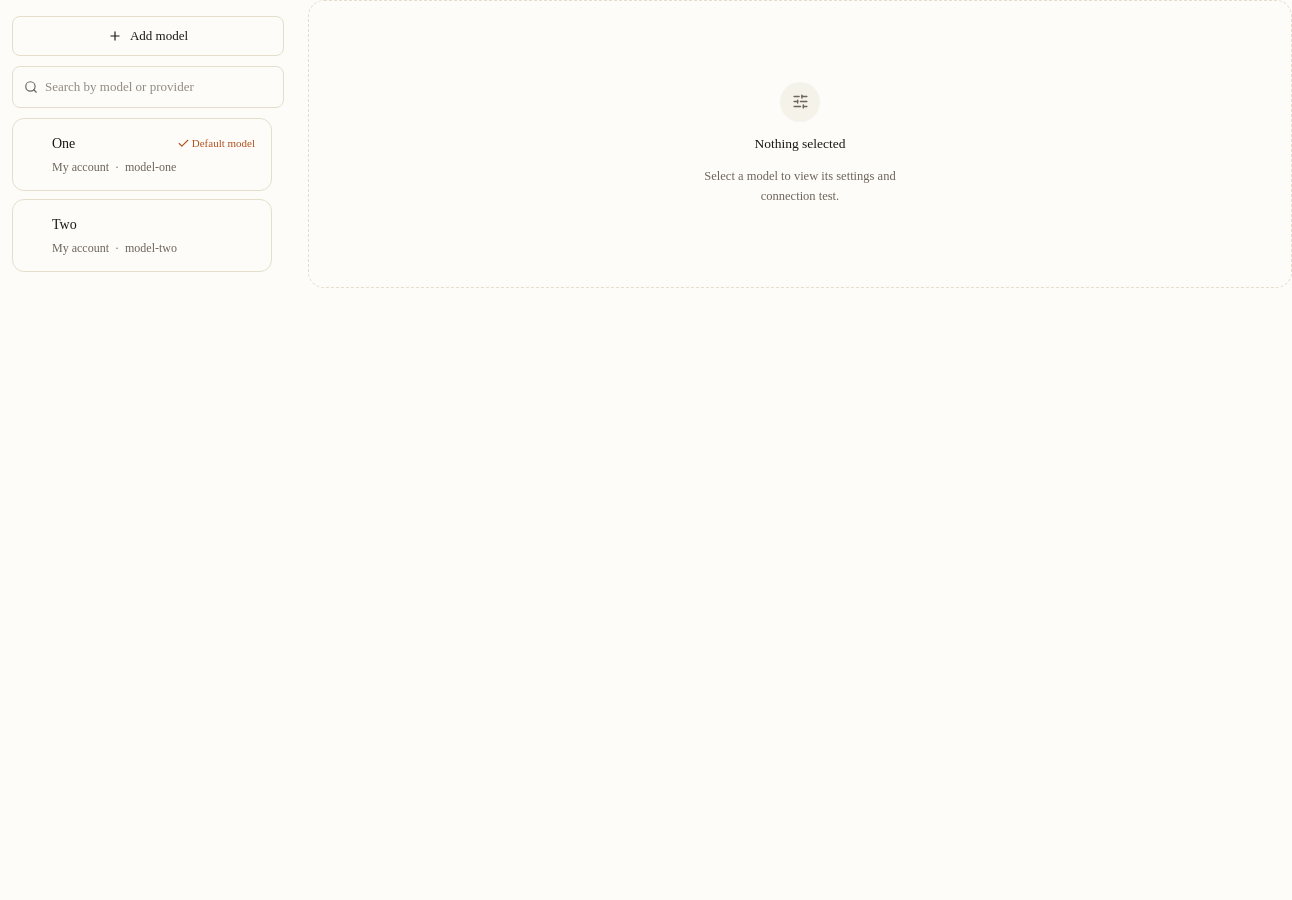
Test: requires a model ID before creating the row and names it after that ID
The width and height of the screenshot is (1292, 900).
Click the button "Add model" at (148, 36), box [12, 16, 284, 56]
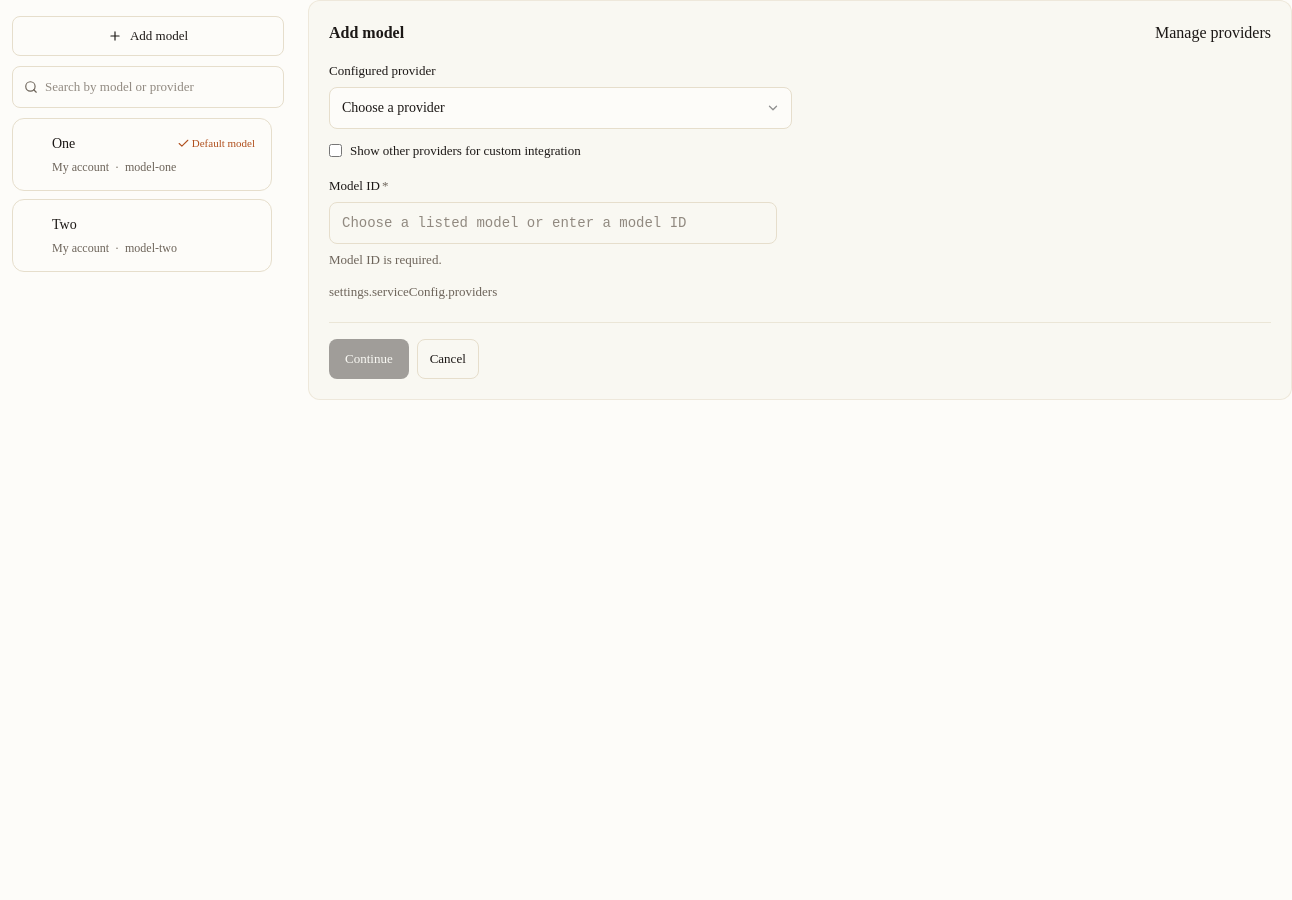
Select "My account" in the dropdown labelled "Configured provider" at (560, 108), box [329, 86, 792, 128]
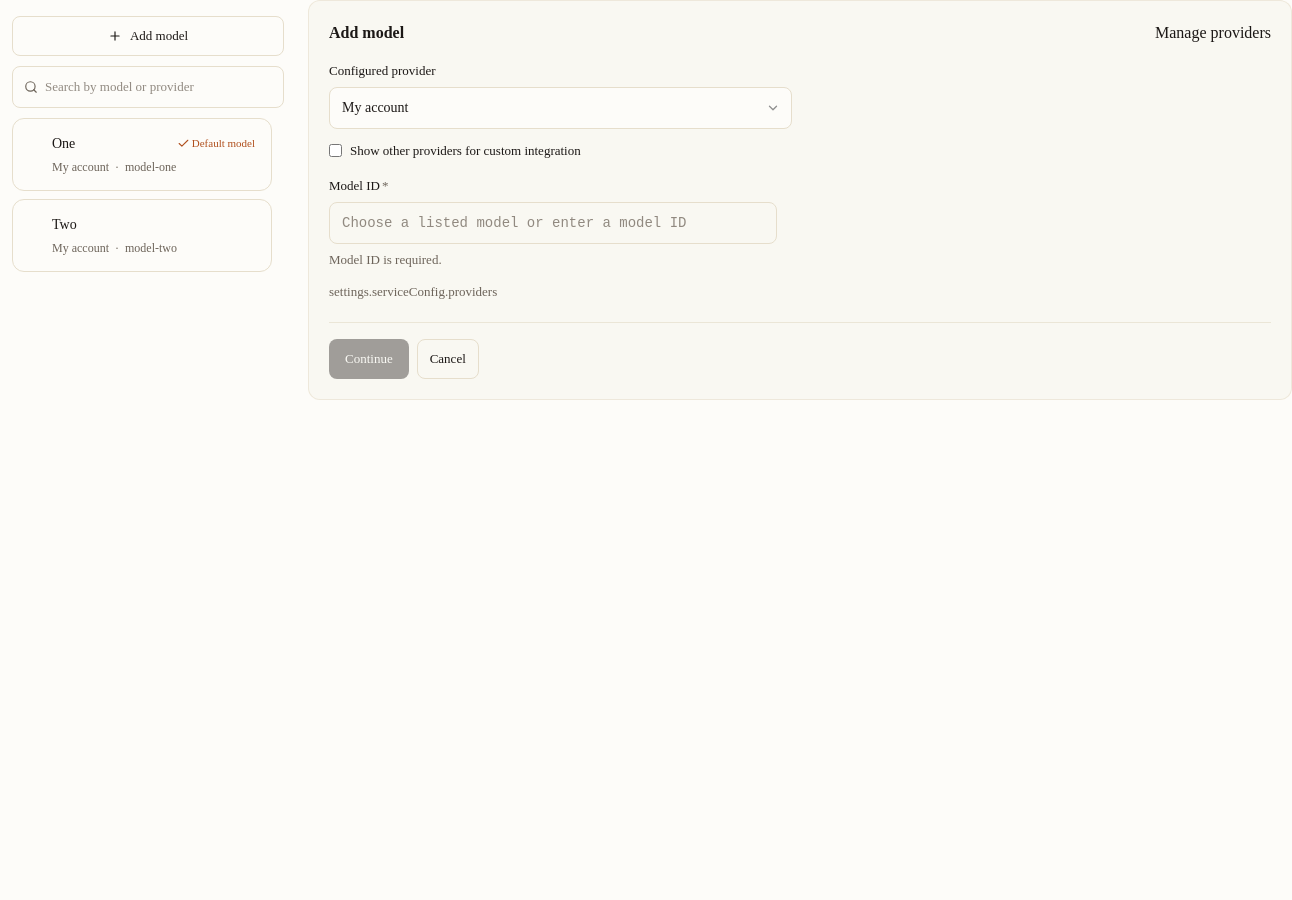
Expected: the button "Continue" is disabled, [329, 339, 409, 379]
Type "custom/model-id" into the dropdown labelled "Model ID" at (553, 222), box [329, 202, 777, 244]
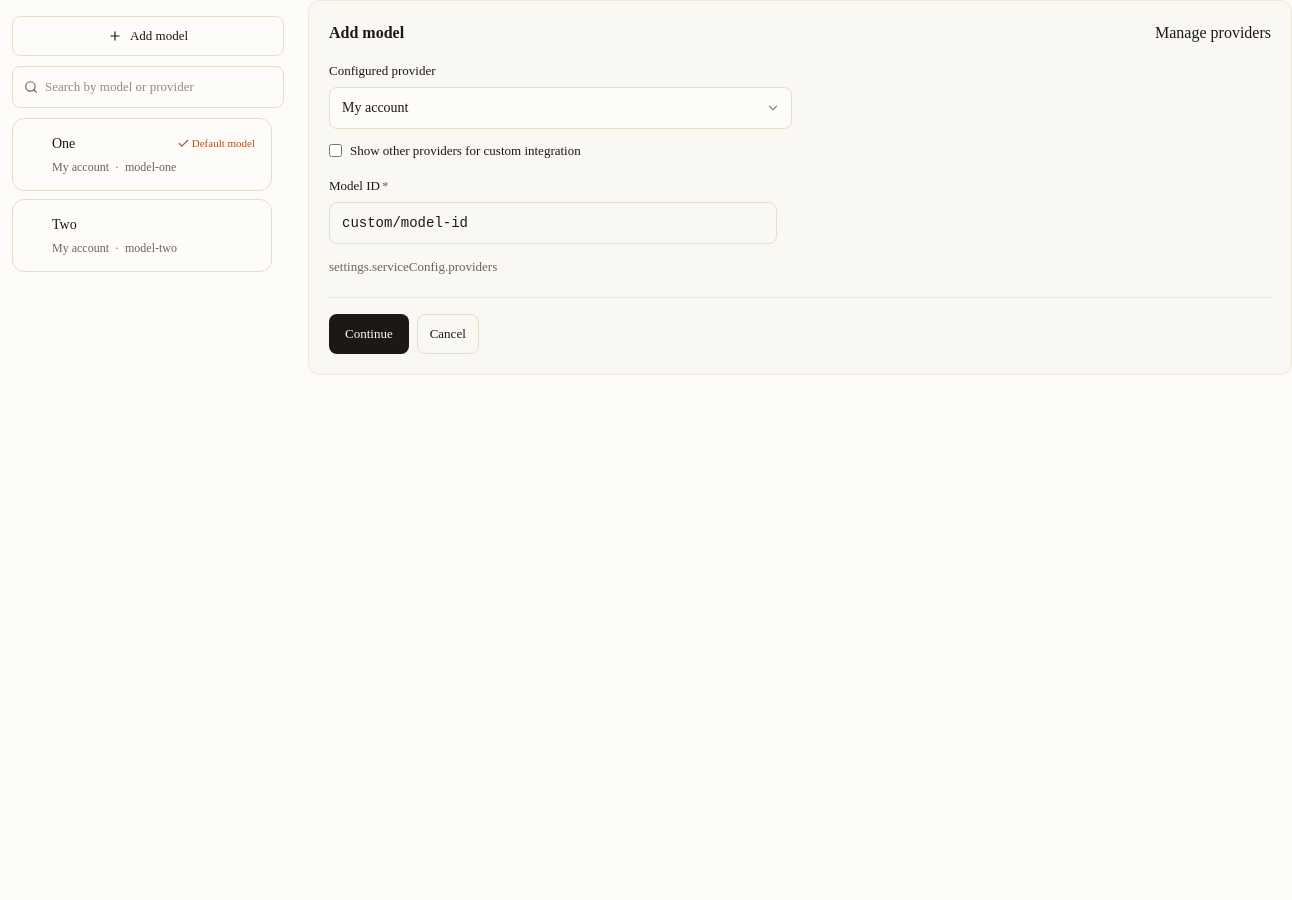
Expected: the button "Continue" is enabled
Click the button "Continue" at (369, 334), box [329, 314, 409, 354]
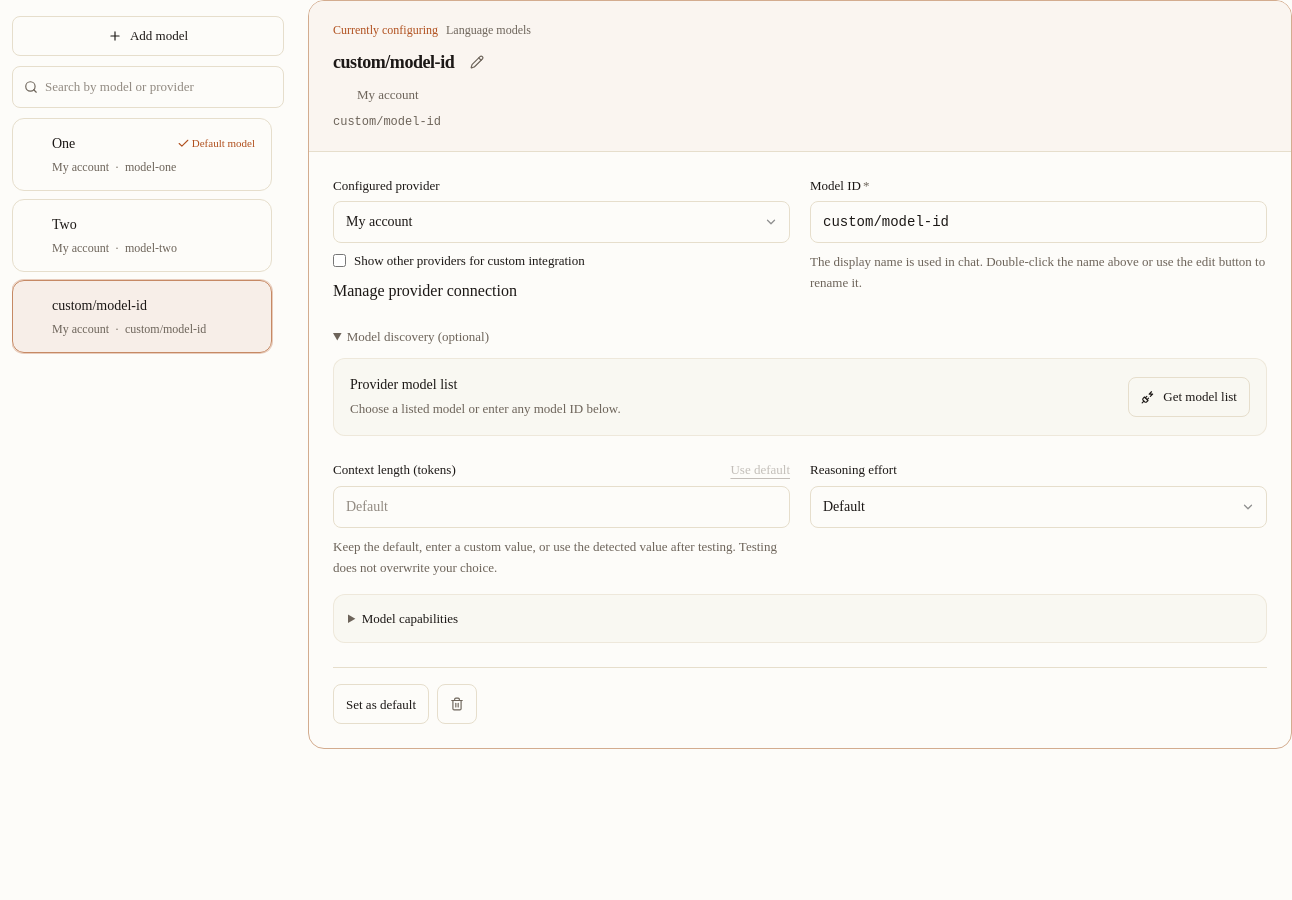
Expected: the heading "custom/model-id" is shown, [333, 48, 454, 76]
